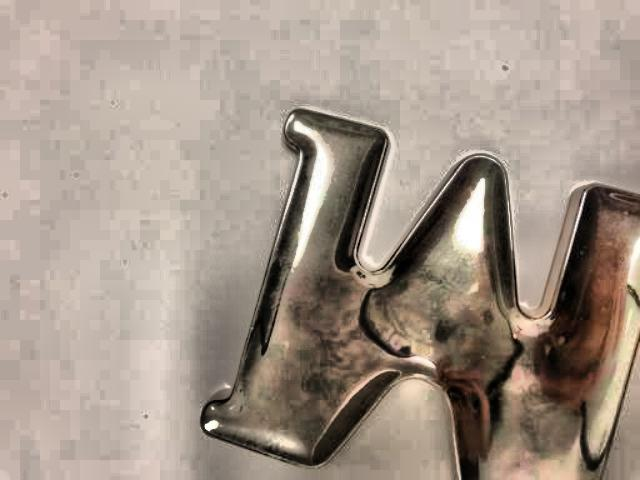Almennt: (221, 101, 640, 480)
